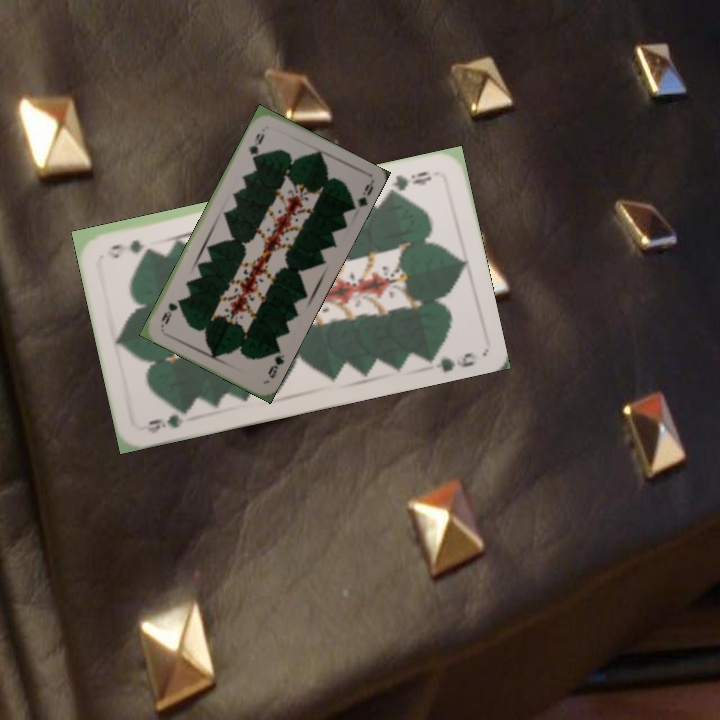G9: (144, 402, 195, 436), (384, 167, 434, 196), (245, 129, 267, 162), (264, 350, 287, 381)
